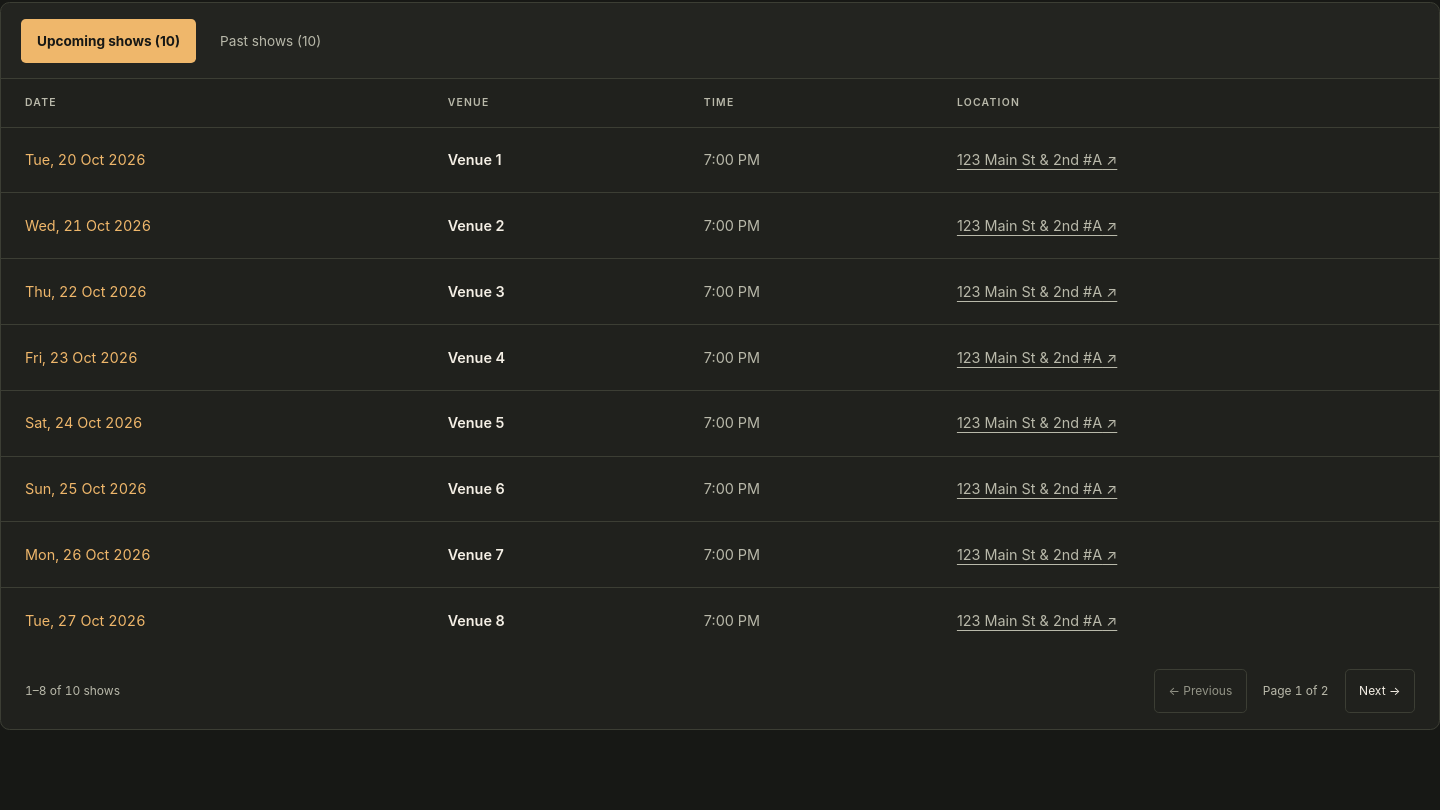
paginates history and resets to page one when switching panes
The width and height of the screenshot is (1440, 810).
(page scrolled)
What coordinates should you click on to do the following:
click the button "Next →"
I would click on:
 (1380, 691)
Its box is [1344,669,1415,713].
(page scrolled)
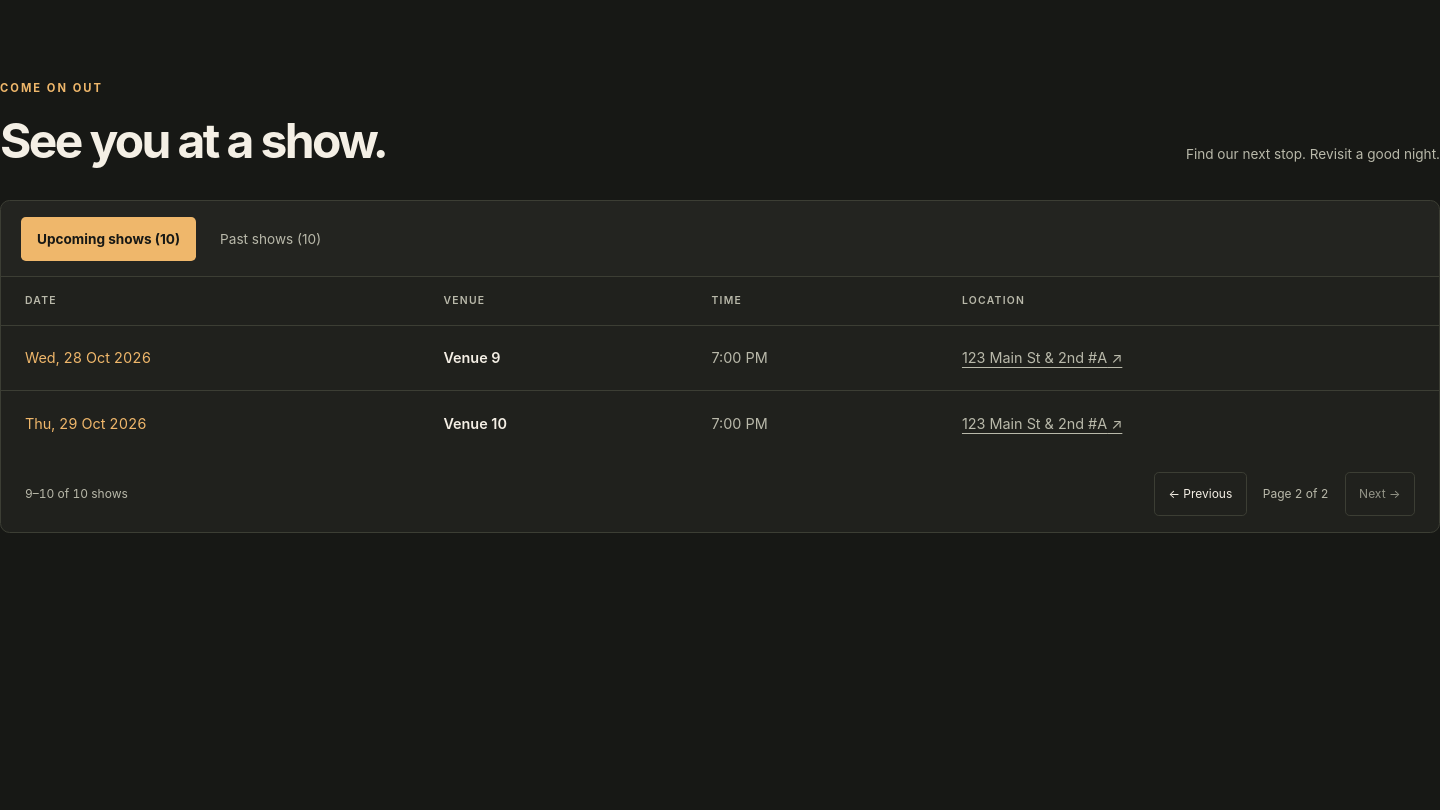
What coordinates should you click on to do the following:
click the tab "Past shows (10)"
I would click on:
 (271, 239)
Its box is [204,217,337,261].
(page scrolled)
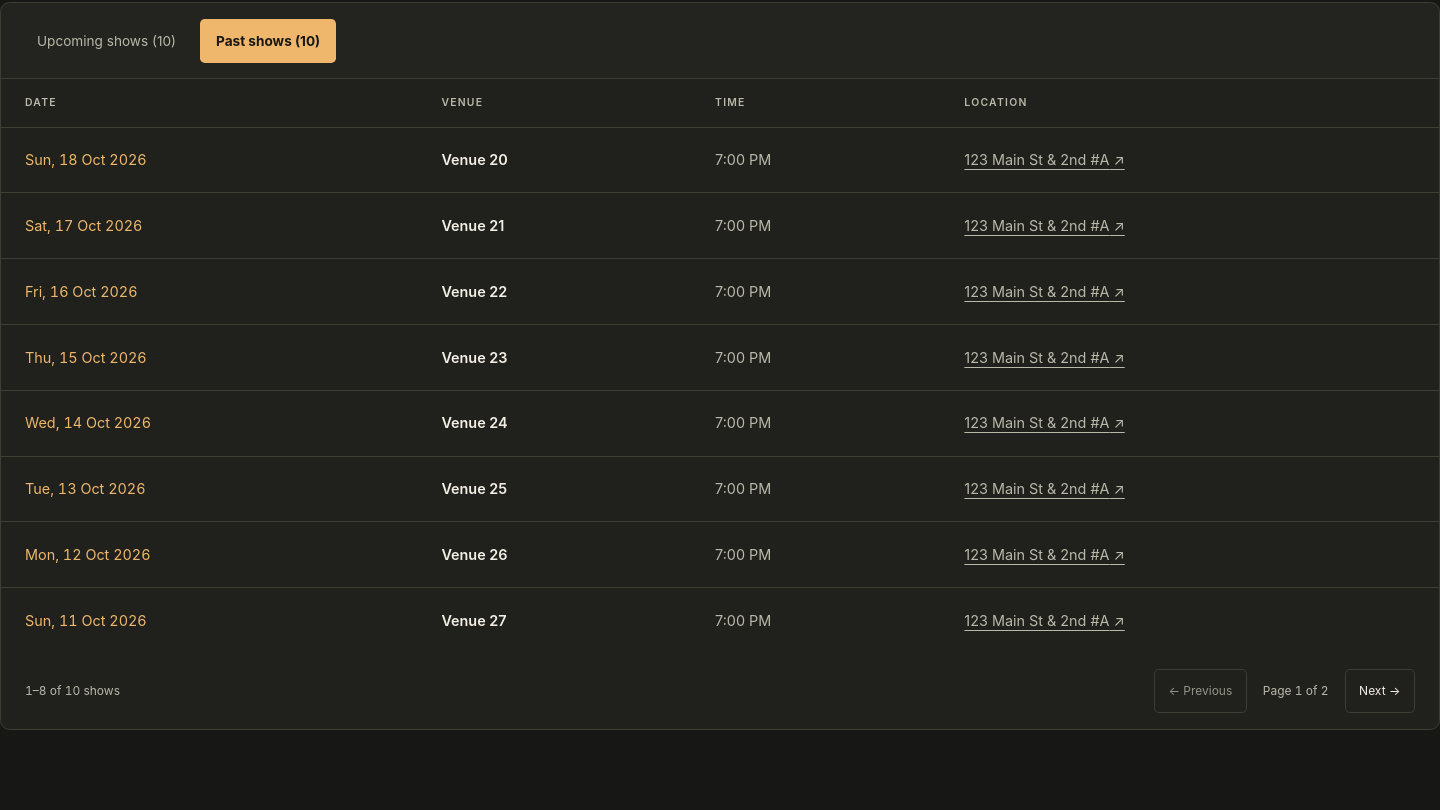
Check: the message reads "1–8 of 10 shows", box [25,682,120,700]
What coordinates should you click on to do the following:
click the button "Next →"
I would click on:
 (1380, 691)
Its box is [1344,669,1415,713].
(page scrolled)
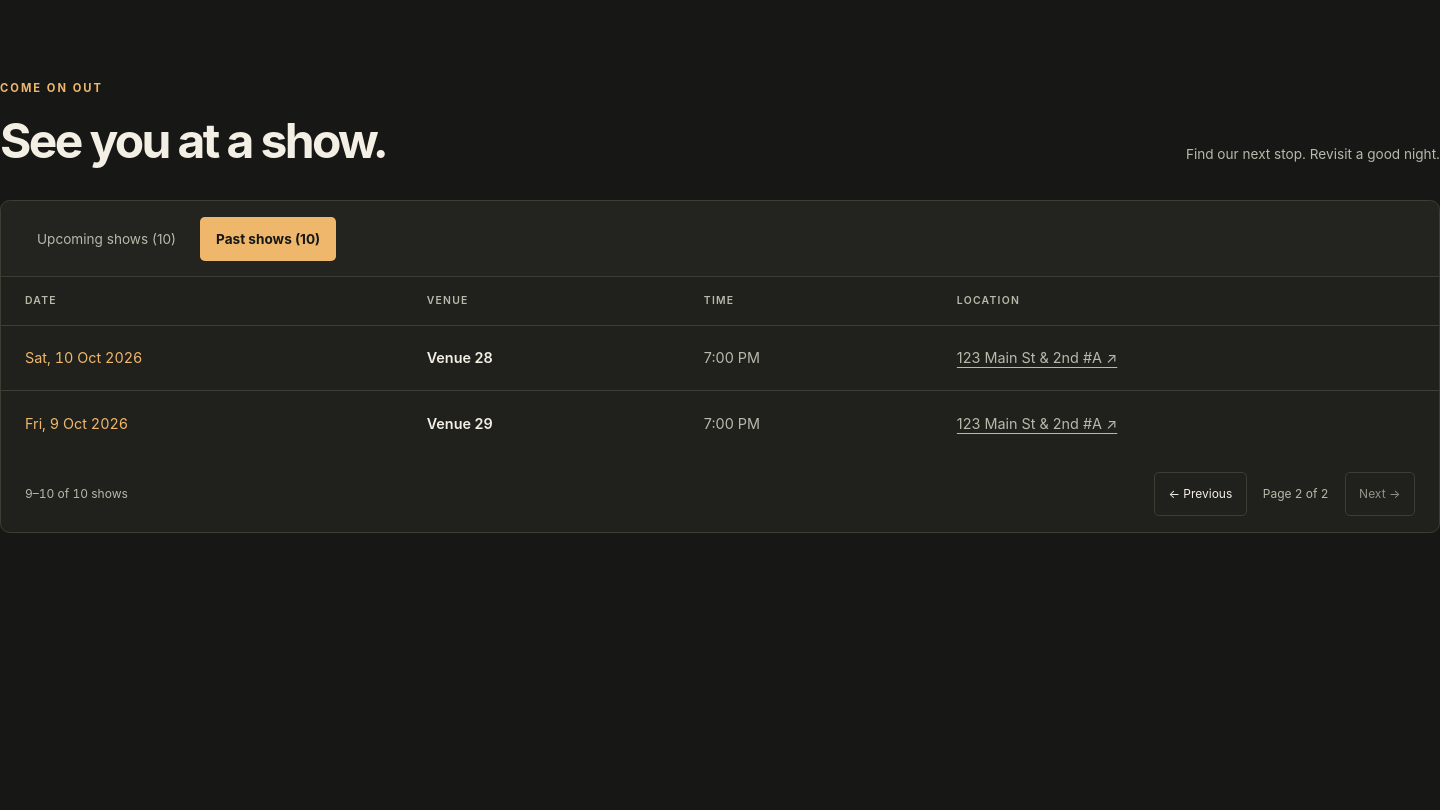
What coordinates should you click on to do the following:
click the tab "Upcoming shows (10)"
I would click on:
 (106, 239)
Its box is [21,217,192,261].
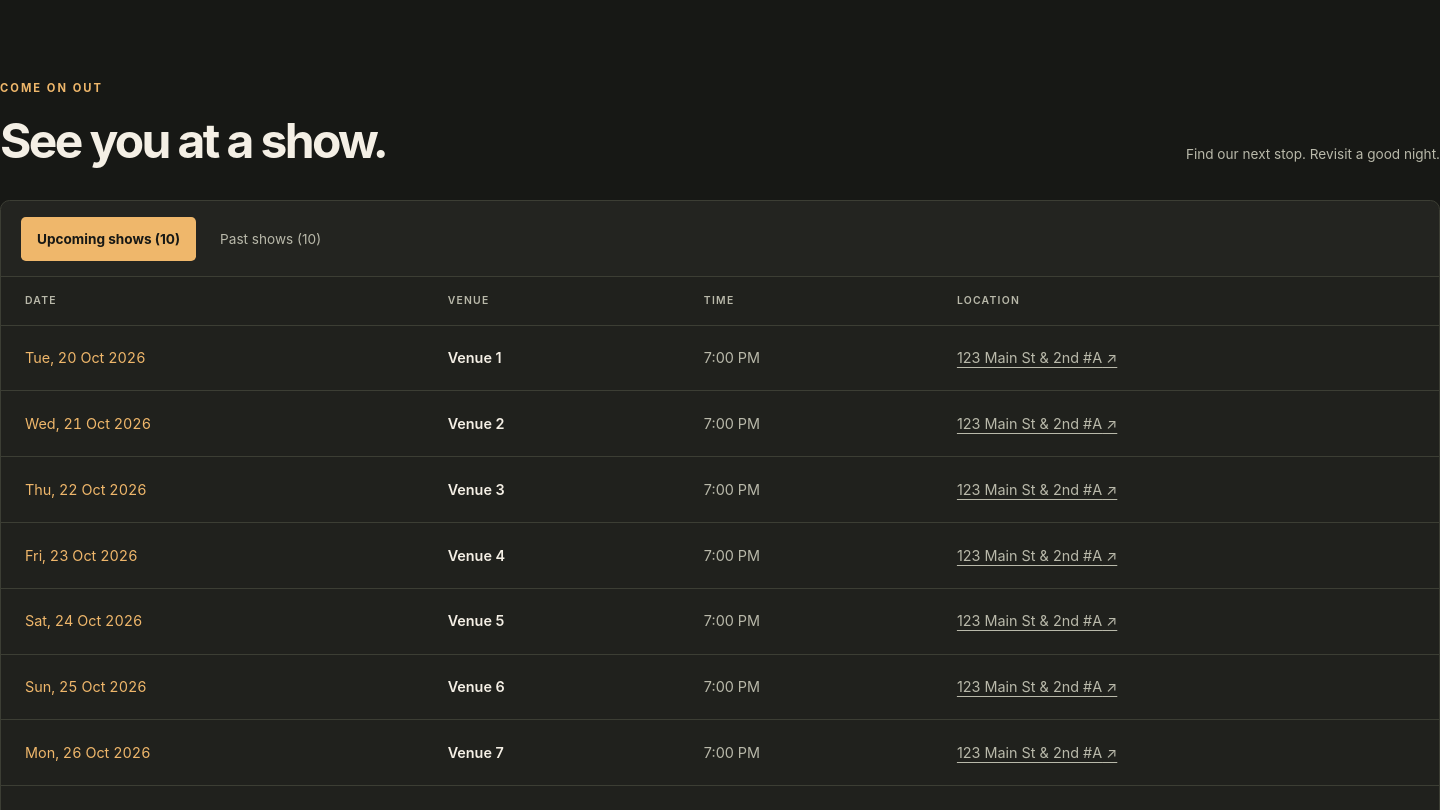
Check: the column heading "Venue 1" is shown, box [424,325,680,391]
